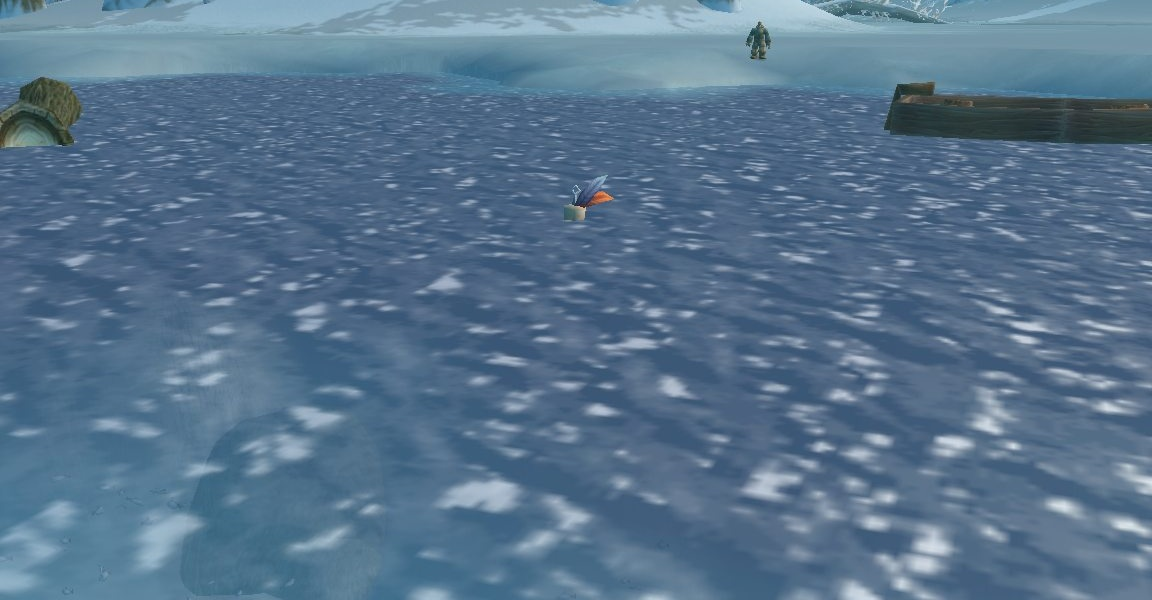Bobber: (560, 171, 617, 226)
